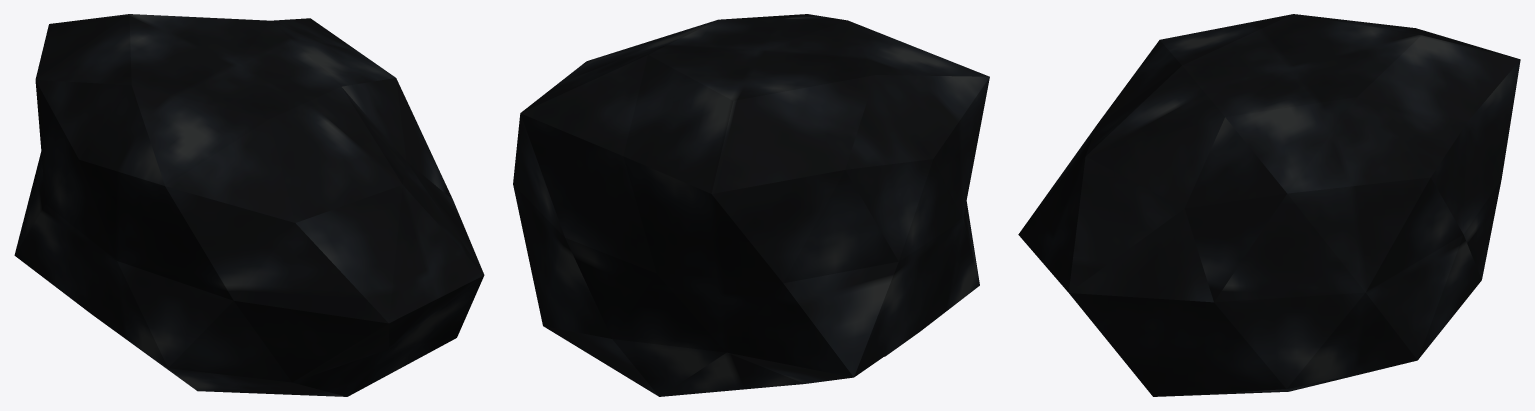
Rendered from anthracite.glb.
3 renders of one model, left to right at view 1: azimuth 30°, elevation 25°; view 2: azimuth 150°, elevation 25°; view 3: azimuth 270°, elevation 25°, orthographic. The views are drawn at different scales.
Visible parts, largest first — view 1: Loose anthracite | 01; view 2: Loose anthracite | 01; view 3: Loose anthracite | 01.
Boxes of the visible parts, x1=… form: Loose anthracite | 01: x1=14, y1=14, x2=484, y2=396; Loose anthracite | 01: x1=513, y1=14, x2=989, y2=396; Loose anthracite | 01: x1=1018, y1=14, x2=1520, y2=396.
Bounding box in the file's own units: 0.2617 × 0.2212 × 0.3344.
1 material, 1 textured.
